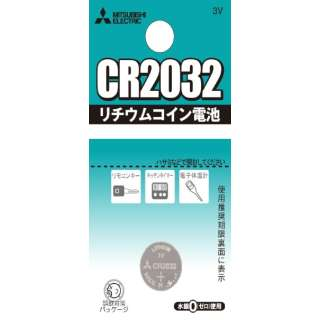Battery: (138, 238, 184, 295)
